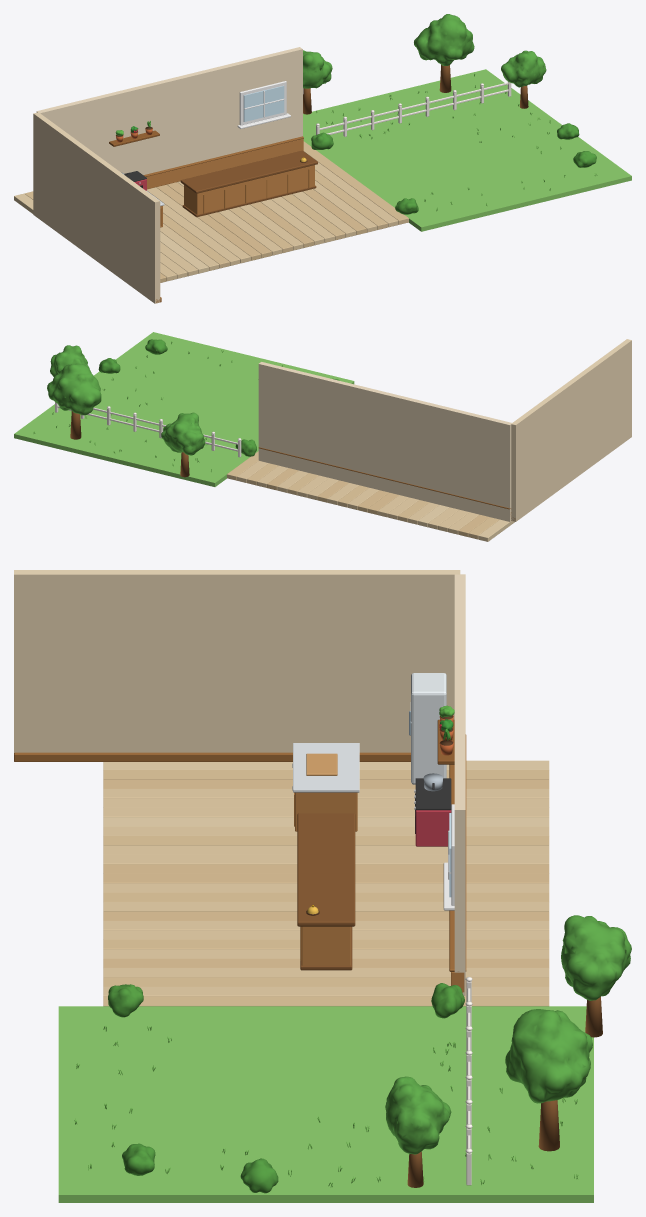
File: cenario.glb
3 views of the same model, one above another, from view 1: azimuth 30°, elevation 25°; view 2: azimuth 150°, elevation 25°; view 3: azimuth 270°, elevation 25° (orthographic). The views are drawn at different scales.
Parts seen in each view (by area): view 1: chao_25, chao_30, chao_31, chao_11, peca_3, peca_1, chao_10, chao_12, peca_6, peca_8, peca_0, peca_27 (+5 smaller); view 2: chao_30, chao_25, chao_31, peca_1, chao_11, chao_10, chao_12, peca_8, peca_0, chao_9, peca_2, peca_28; view 3: chao_25, chao_31, chao_11, chao_10, chao_12, peca_1, peca_6, chao_9, chao_30, peca_28, peca_0, peca_3 (+6 smaller).
Boxes of the visible parts, <box> form: chao_25: <box>303,69,631,231</box>; chao_30: <box>36,47,302,174</box>; chao_31: <box>33,112,160,303</box>; chao_11: <box>147,162,398,281</box>; peca_3: <box>146,138,314,227</box>; peca_1: <box>303,14,546,88</box>; chao_10: <box>24,141,408,268</box>; chao_12: <box>156,182,366,282</box>; peca_6: <box>180,150,317,193</box>; peca_8: <box>316,81,511,136</box>; peca_0: <box>311,123,596,214</box>; peca_27: <box>243,85,284,121</box>; chao_30: <box>258,362,512,521</box>; chao_25: <box>14,332,354,486</box>; chao_31: <box>511,339,631,521</box>; peca_1: <box>47,345,205,455</box>; chao_11: <box>237,461,479,534</box>; chao_10: <box>227,451,499,539</box>; chao_12: <box>267,468,489,536</box>; peca_8: <box>55,402,241,457</box>; peca_0: <box>98,339,339,456</box>; chao_9: <box>418,505,514,541</box>; peca_2: <box>70,411,189,477</box>; peca_28: <box>258,447,515,520</box>; chao_25: <box>58,1006,593,1202</box>; chao_31: <box>14,570,460,752</box>; chao_11: <box>103,789,549,996</box>; chao_10: <box>103,770,549,1006</box>; chao_12: <box>103,779,549,967</box>; peca_1: <box>385,915,631,1154</box>; peca_6: <box>297,813,355,926</box>; chao_9: <box>103,760,549,826</box>; chao_30: <box>454,574,465,995</box>; peca_28: <box>14,734,466,971</box>; peca_0: <box>108,983,464,1193</box>; peca_3: <box>295,792,464,992</box>.
Size of the model in its own units: 23.64 by 4.82 by 13.85.
